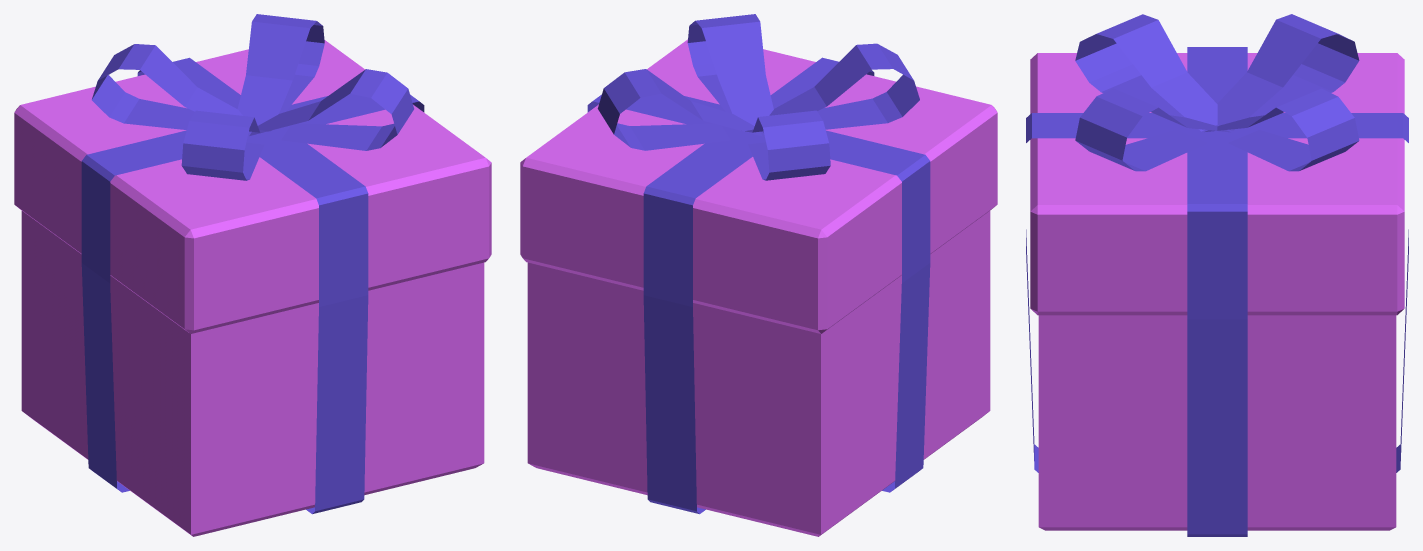
Rendered from present.glb.
3 views of the same model, side by side, from view 1: azimuth 30°, elevation 25°; view 2: azimuth 150°, elevation 25°; view 3: azimuth 270°, elevation 25° (orthographic). The views are drawn at different scales.
Visible parts, largest first — view 1: Cube.001; view 2: Cube.001; view 3: Cube.001.
Part boxes in pixels (x1,y1,x2,y2): Cube.001: (14, 14, 491, 536); Cube.001: (520, 14, 997, 536); Cube.001: (1026, 14, 1408, 536).
Size of the model in its own units: 0.2722 by 0.3125 by 0.2722.
